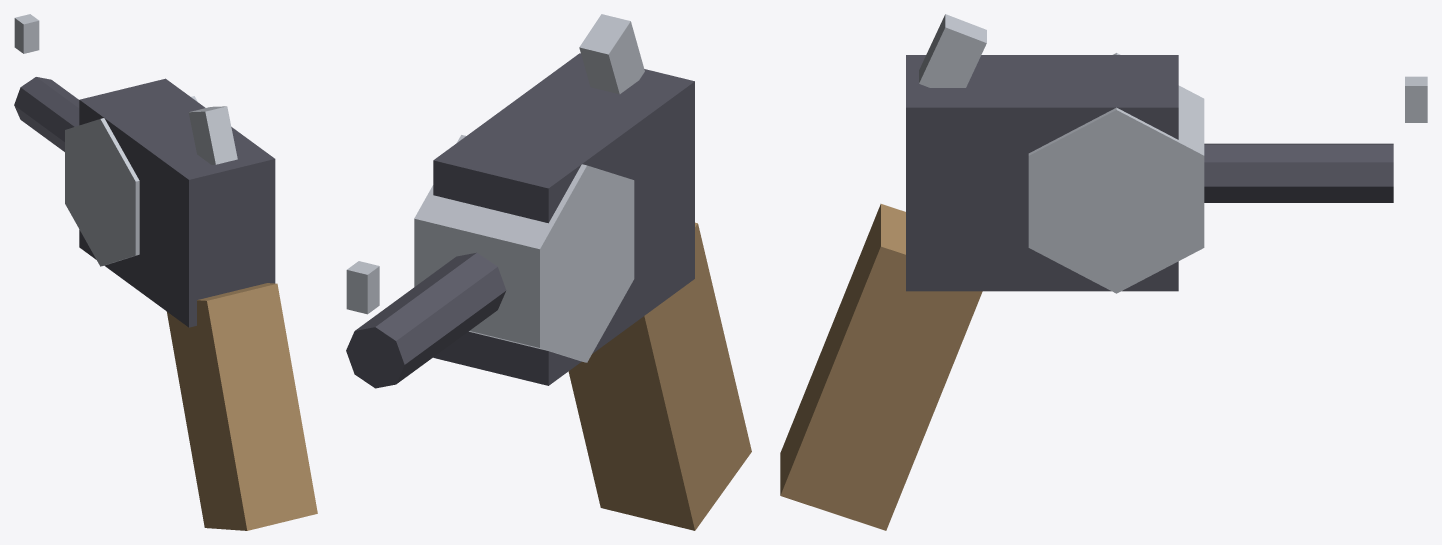
File: sheriff.glb
3 views of the same model, side by side, from view 1: azimuth 30°, elevation 25°; view 2: azimuth 150°, elevation 25°; view 3: azimuth 270°, elevation 25° (orthographic). The views are drawn at different scales.
Visible parts, largest first — view 1: body, grip, cylinder, barrel, hammer, sight_front; view 2: body, grip, cylinder, barrel, hammer, sight_front; view 3: body, grip, cylinder, barrel, hammer, sight_front.
Part boxes in pixels (bbox=[...]): body: bbox=[79, 78, 275, 327]; grip: bbox=[166, 283, 317, 530]; cylinder: bbox=[65, 96, 197, 266]; barrel: bbox=[14, 77, 79, 151]; hammer: bbox=[188, 106, 237, 164]; sight_front: bbox=[14, 14, 39, 53]; body: bbox=[433, 53, 694, 385]; grip: bbox=[568, 222, 751, 530]; cylinder: bbox=[414, 135, 634, 362]; barrel: bbox=[346, 252, 506, 388]; hammer: bbox=[579, 14, 644, 94]; sight_front: bbox=[346, 261, 379, 314]; body: bbox=[906, 55, 1178, 291]; grip: bbox=[780, 204, 982, 530]; cylinder: bbox=[1028, 53, 1204, 293]; barrel: bbox=[1204, 143, 1393, 202]; hammer: bbox=[919, 14, 986, 87]; sight_front: bbox=[1405, 76, 1427, 122].
Size of the model in its own units: 0.06 by 0.2393 by 0.2872.
